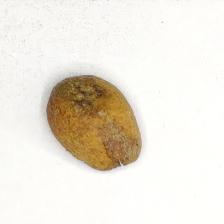NG: (63, 74, 106, 113), (106, 127, 142, 172)
